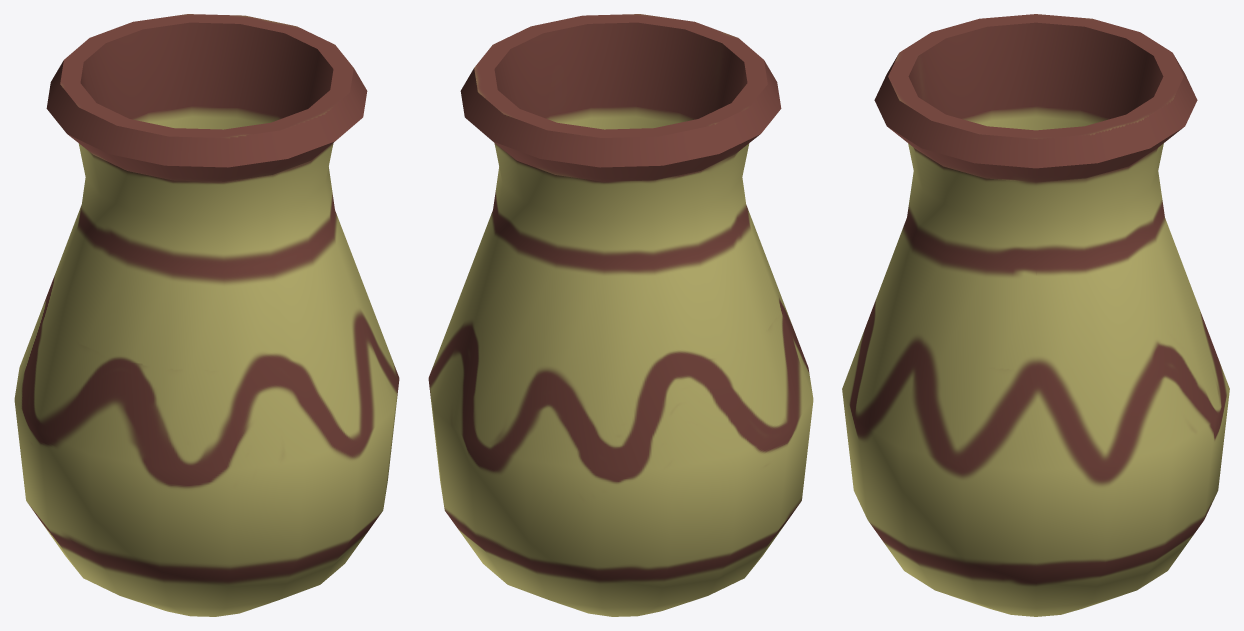
The model's file is 1pot.fbx.
The picture shows the model from 3 angles, left to right: view 1: azimuth 30°, elevation 25°; view 2: azimuth 150°, elevation 25°; view 3: azimuth 270°, elevation 25°; orthographic projection.
Visible parts, largest first — view 1: Cylinder; view 2: Cylinder; view 3: Cylinder.
Part boxes in pixels (<box>): Cylinder: <box>14,14,399,616</box>; Cylinder: <box>428,14,813,616</box>; Cylinder: <box>842,14,1229,616</box>.
Size of the model in its own units: 148 by 216 by 148.
